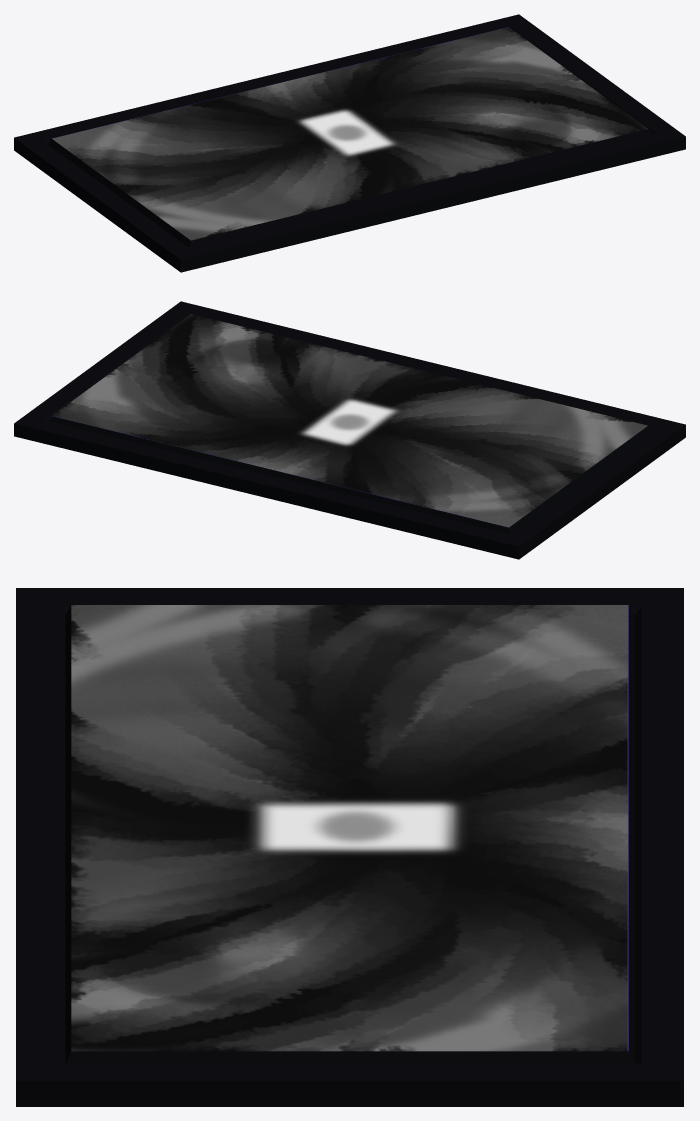
The model's file is Tablero_Uno.fbx.
3 views of the same model, one above another, from view 1: azimuth 30°, elevation 25°; view 2: azimuth 150°, elevation 25°; view 3: azimuth 270°, elevation 25° (orthographic). The views are drawn at different scales.
Parts seen in each view (by area): view 1: TABLERO VIRUS; view 2: TABLERO VIRUS; view 3: TABLERO VIRUS.
Part boxes in pixels (x1=…): TABLERO VIRUS: x1=14, y1=14, x2=685, y2=272; TABLERO VIRUS: x1=14, y1=301, x2=685, y2=559; TABLERO VIRUS: x1=16, y1=588, x2=683, y2=1106.
Bounding box in the file's own units: 365 × 11.12 × 209.
